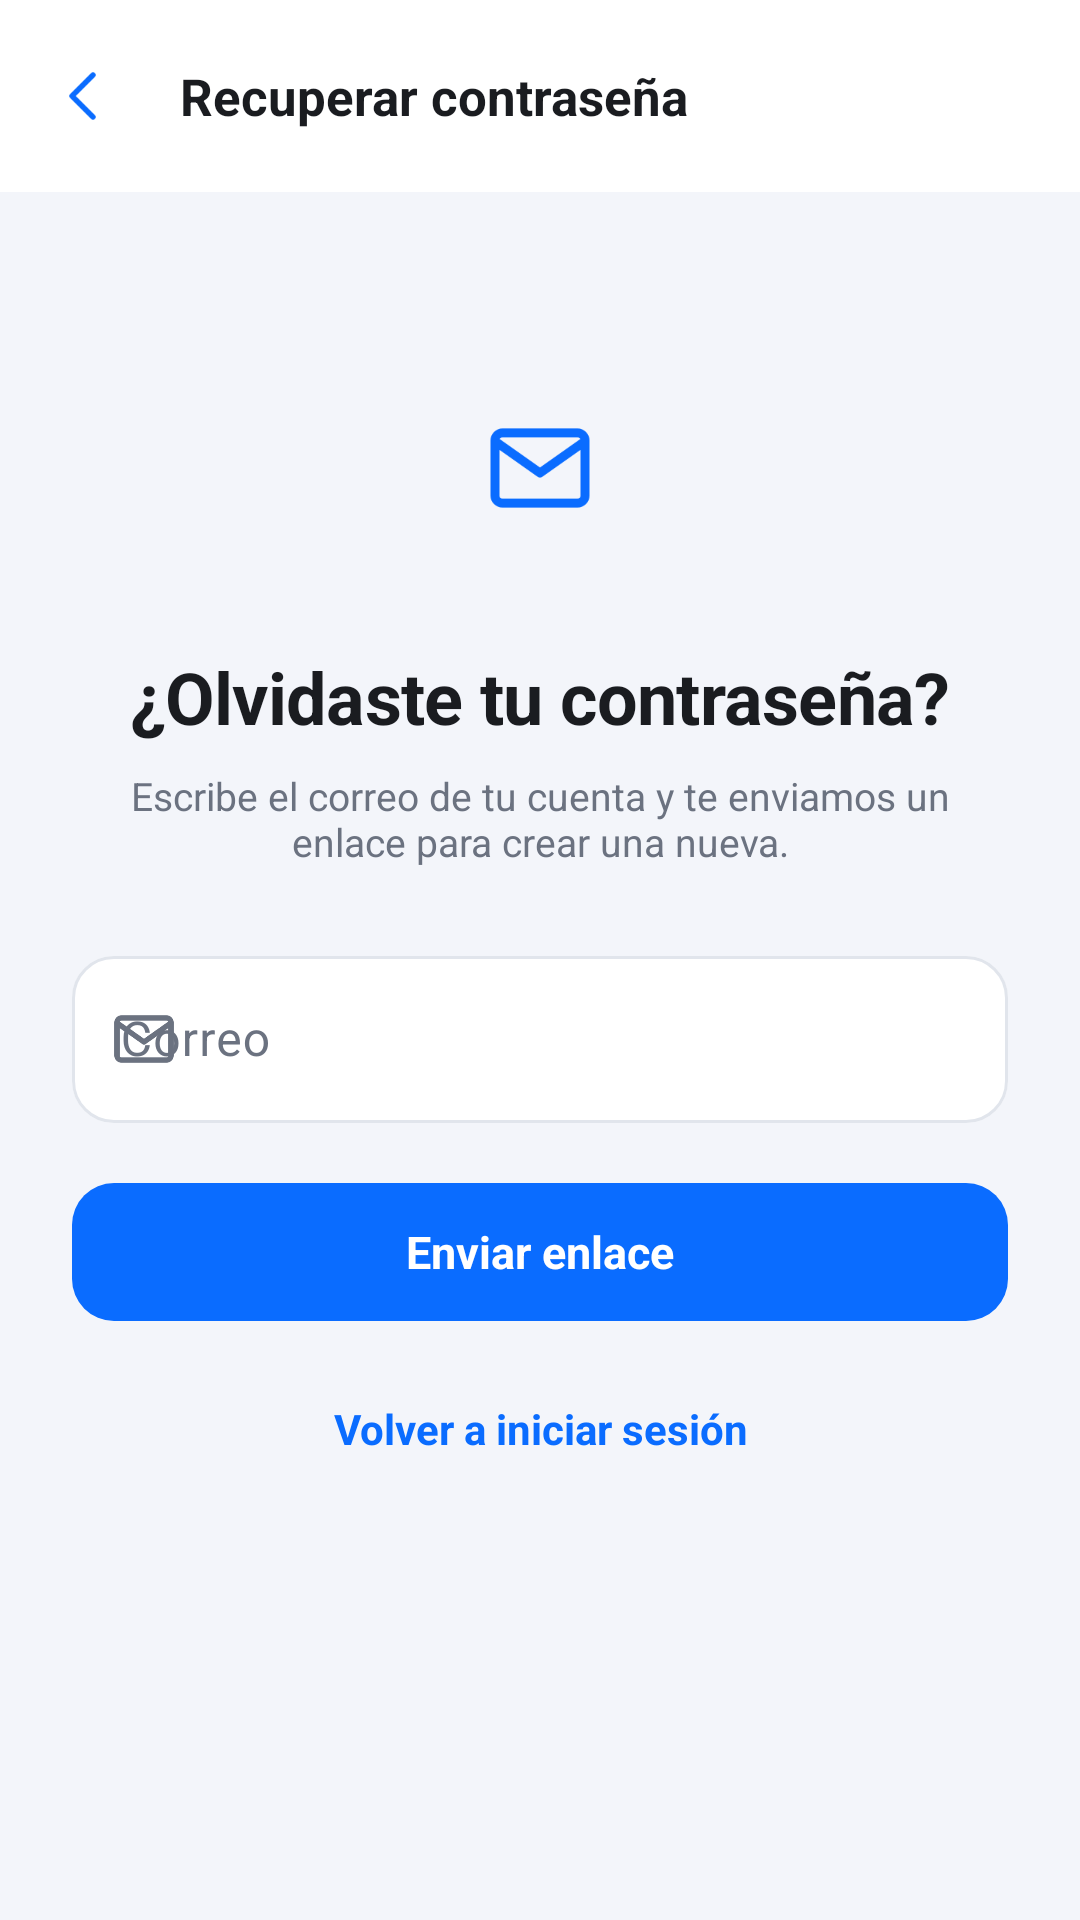

Named icons in this screenshot (1080 × 1920) and their bounding boxes, (x1, y1, x2, y2):
Icono de correo: (490, 428, 590, 508)
